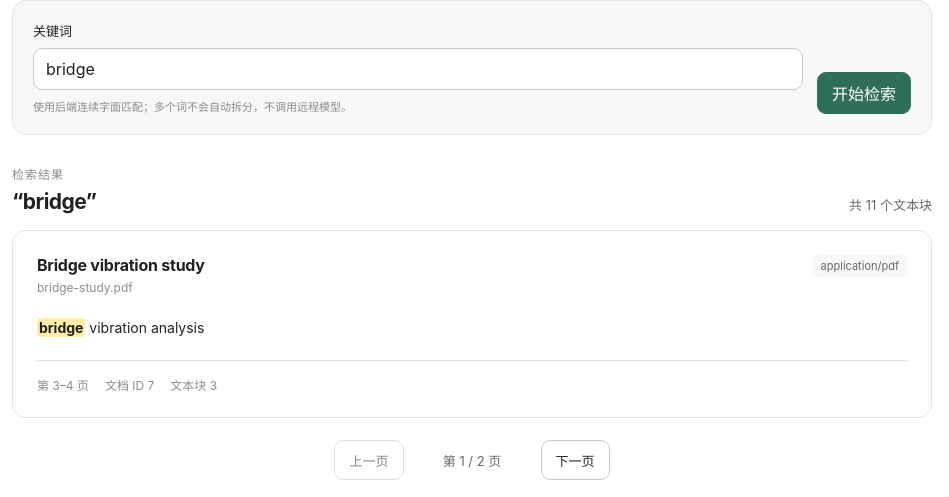
Test case: KeywordSearchPanel › 分页按钮把页码写入 URL 并请求下一页
Click the button "下一页": {"x": 575, "y": 460} [540,440,610,480]
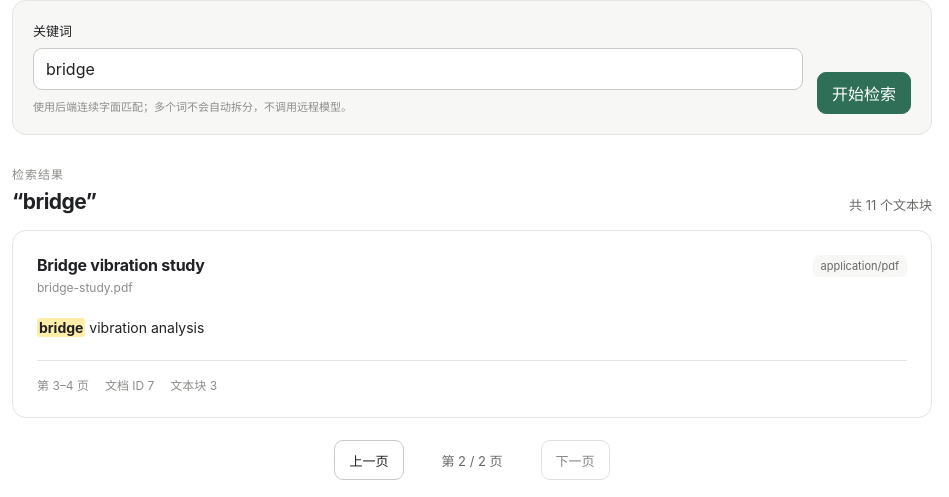
Expected: the text "第 2 / 2 页" is shown, [441,453,503,469]
